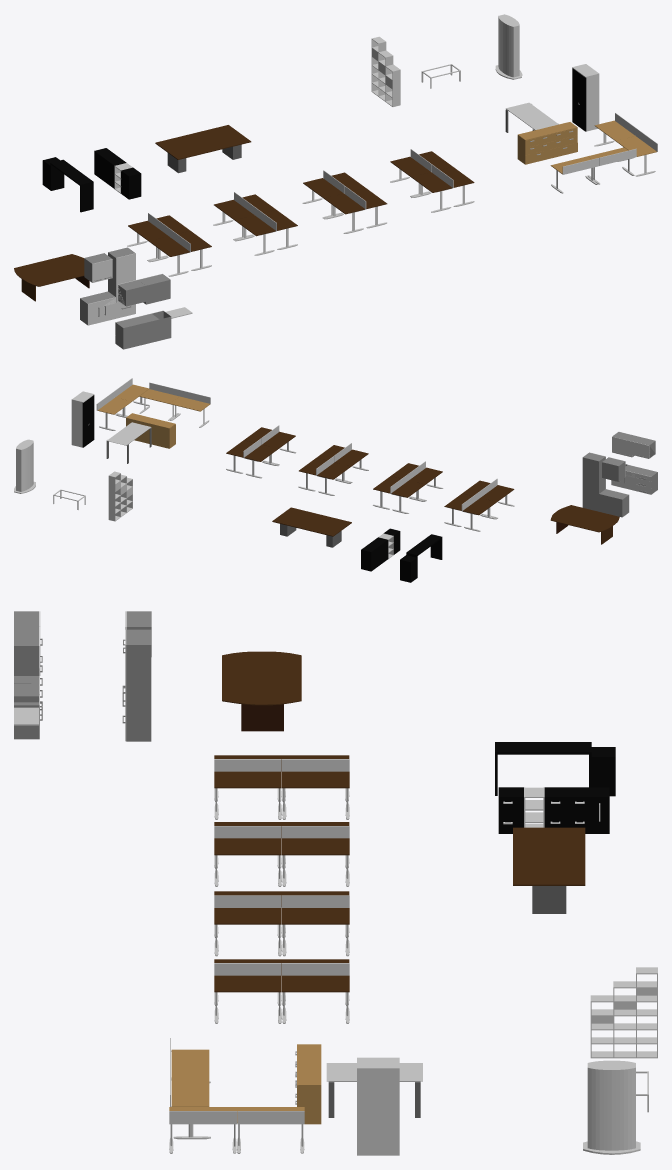
The model's file is MobiliFissi.dae.
3 renders of one model, top to bottom at view 1: azimuth 30°, elevation 25°; view 2: azimuth 150°, elevation 25°; view 3: azimuth 270°, elevation 25°, orthographic. The views are drawn at different scales.
Parts seen in each view (by area): view 1: Cube_001_003 (×2), Cube_007_002, Cube_002_005, Cube_003_001, TavoloPranzo2, Cube_001_002, Cube_052, Cube_002, Cube_011_001, Sscrivania_005_005, Cube_010_001, Cube_103 (+13 smaller); view 2: Cube_001, Sscrivania_005_005, Cube_002_005, TavoloPranzo2, Cube_001_003, Cube_007_002, Cube_052, Cube_011_001, Cube_002, Cube_010_001, Cube_001_004_001, Cube_103 (+18 smaller); view 3: Cube_001_003 (×2), Cube_002, Cube_002_005, Cube_010_001, TavoloPranzo2, Cube_011_001, Cube_001, Sscrivania_005_005, Cube_052, Cube_007_002, Sscrivania_002_002, Sscrivania_002_001 (+20 smaller).
Boxes of the visible parts, x1,y1,x2,y2 form: Cube_001_003 (×2): (138,36,400,304); Cube_007_002: (517,122,577,164); Cube_002_005: (155,125,251,159); Cube_003_001: (115,311,171,349); TavoloPranzo2: (14,254,84,286); Cube_001_002: (87,253,135,325); Cube_052: (42,157,93,212); Cube_002: (495,14,522,79); Cube_011_001: (94,148,141,199); Sscrivania_005_005: (550,147,636,193); Cube_010_001: (572,64,599,131); Cube_103: (572,68,586,131); Cube_001: (582,452,628,517); Sscrivania_005_005: (139,382,210,427); Cube_002_005: (272,507,351,536); TavoloPranzo2: (550,505,619,532); Cube_001_003: (108,471,132,521); Cube_007_002: (126,413,175,448); Cube_052: (400,534,442,582); Cube_011_001: (361,528,400,571); Cube_002: (14,439,35,493); Cube_010_001: (71,391,94,447); Cube_001_004_001: (611,470,651,494); Cube_103: (82,395,94,447); Cube_001_003 (×2): (14,626,657,1058); Cube_002: (583,1060,640,1154); Cube_002_005: (513,827,585,885); Cube_010_001: (357,1057,399,1155); TavoloPranzo2: (222,651,301,705); Cube_011_001: (498,787,609,833); Cube_001: (126,629,151,741); Sscrivania_005_005: (170,1038,210,1139); Cube_052: (495,742,615,796); Cube_007_002: (297,1044,321,1124); Sscrivania_002_002: (282,771,349,819); Sscrivania_002_001: (282,838,349,886).
Size of the model in its own units: 23.18 by 13.36 by 2.21.
